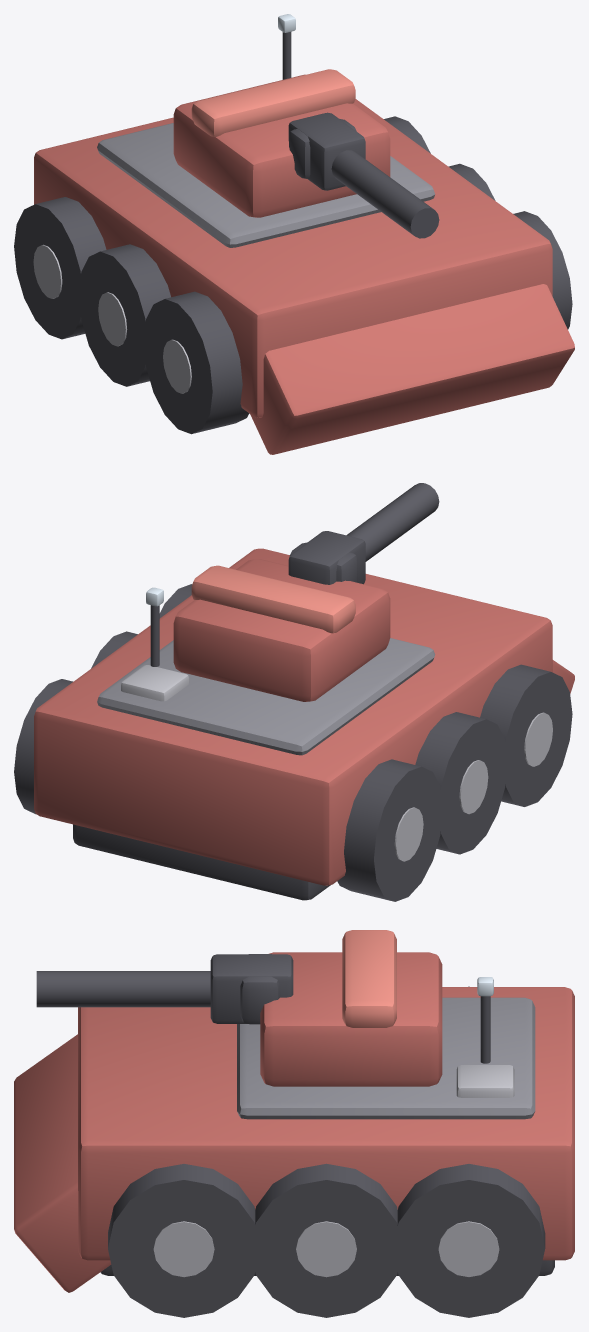
Rendered from red_scout.glb.
3 views of the same model, one above another, from view 1: azimuth 30°, elevation 25°; view 2: azimuth 150°, elevation 25°; view 3: azimuth 270°, elevation 25° (orthographic). The views are drawn at different scales.
Parts seen in each view (by area): view 1: hull_static, turret; view 2: hull_static, turret; view 3: hull_static, turret.
Part boxes in pixels (<box>): hull_static: <box>14,14,574,454</box>; turret: <box>173,69,439,238</box>; hull_static: <box>14,548,574,901</box>; turret: <box>173,483,439,701</box>; hull_static: <box>14,977,574,1317</box>; turret: <box>36,930,442,1086</box>.
Size of the model in its own units: 2.78 by 1.85 by 3.39.
